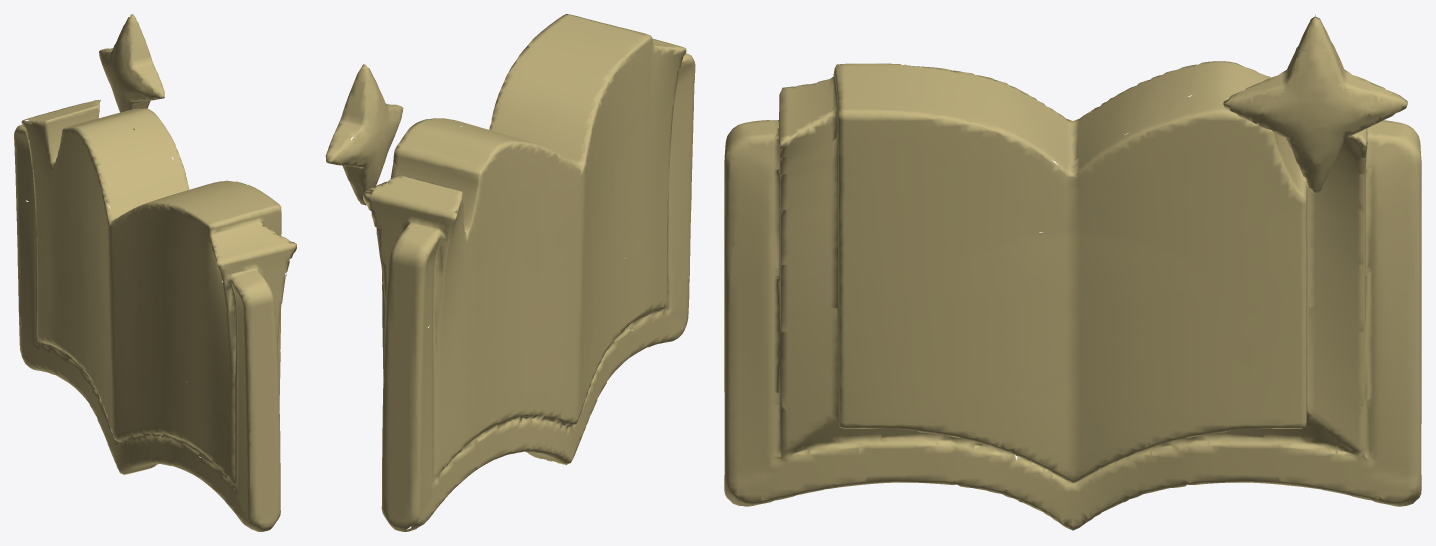
The model's file is pillar-savoir.glb.
3 renders of one model, left to right at view 1: azimuth 30°, elevation 25°; view 2: azimuth 150°, elevation 25°; view 3: azimuth 270°, elevation 25°, orthographic. The views are drawn at different scales.
Visible parts, largest first — view 1: tripo_node_adf7f920-2050-46ea-a38f-86ff540a331a; view 2: tripo_node_adf7f920-2050-46ea-a38f-86ff540a331a; view 3: tripo_node_adf7f920-2050-46ea-a38f-86ff540a331a.
Boxes of the visible parts, x1=… form: tripo_node_adf7f920-2050-46ea-a38f-86ff540a331a: x1=14, y1=14, x2=296, y2=531; tripo_node_adf7f920-2050-46ea-a38f-86ff540a331a: x1=325, y1=14, x2=695, y2=531; tripo_node_adf7f920-2050-46ea-a38f-86ff540a331a: x1=724, y1=14, x2=1421, y2=530.
Bounding box in the file's own units: 0.2913 × 0.8723 × 0.9794.
